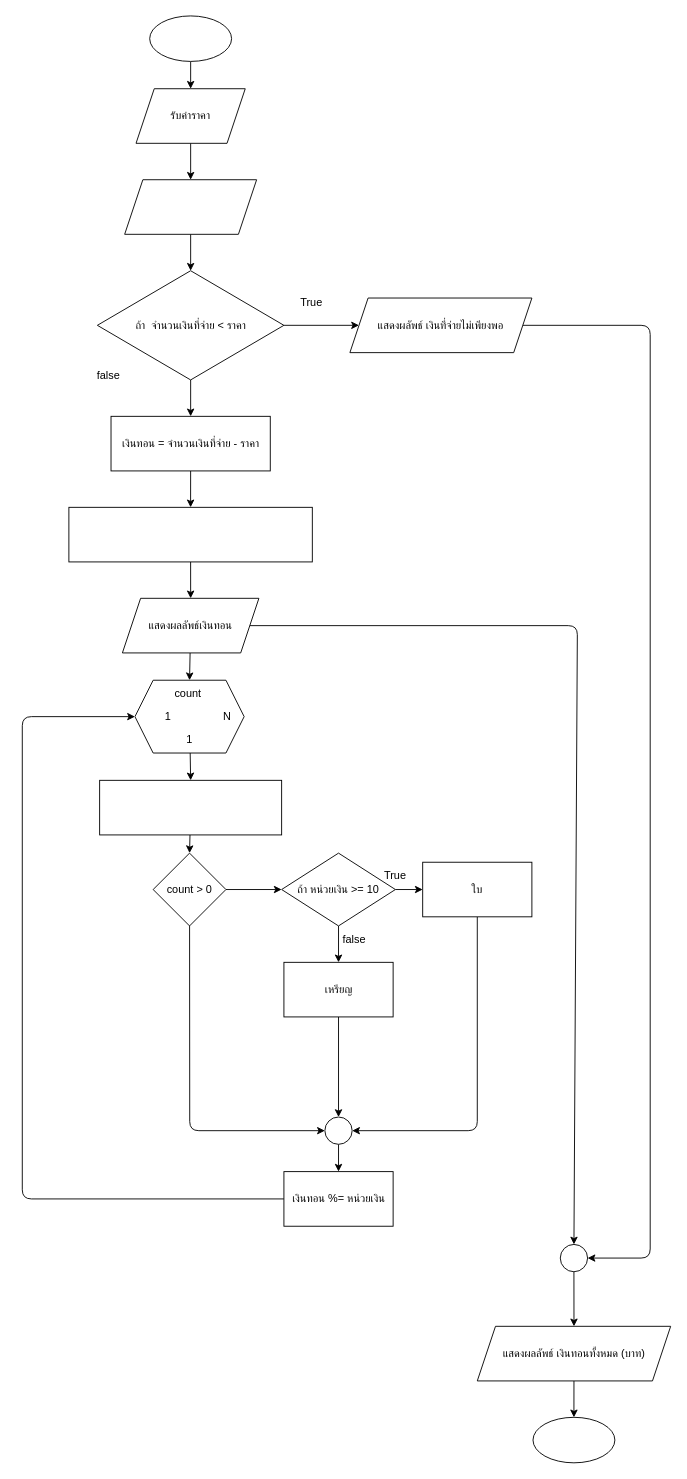
This 687x1479 diagram has some shape labels left out. The centre of each missing label's shape, as x and y in pixels:
"end" belongs at [573,1439].
"start" belongs at [190,38].
"คำนวณ count = เงินทอน // หน่วยเงิน" belongs at [190,807].
"รับค่าจำนวนเงินที่จ่าย" belongs at [190,206].
"หน่วยเงิน = 1000, 500, 100, 50, 20, 10, 5, 1" belongs at [190,534].
